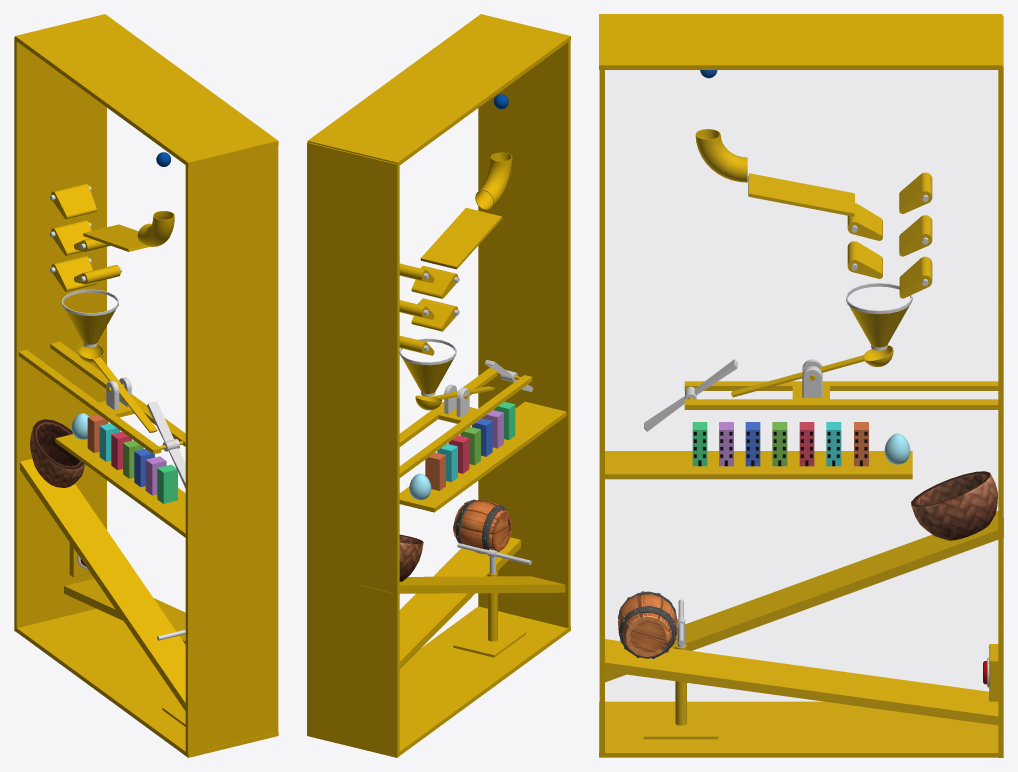
The picture shows the model from 3 angles, left to right: view 1: azimuth 30°, elevation 25°; view 2: azimuth 150°, elevation 25°; view 3: azimuth 270°, elevation 25°; orthographic projection. The views are drawn at different scales.
Parts seen in each view (by area): view 1: Masina_1_ram, Postolje2, Postolje_za_klackalicu, Postolje1, Korpa, Postolje3, Levak, Fliper4, Kasika_od_klackalice, Dascica_1, Fliper3, Elise (+10 smaller); view 2: Masina_1_ram, Postolje3, Postolje1, Postolje_za_klackalicu, Postolje2, Burence, Dascica_1, Stalak, Levak, Tunel, Fliper, Fliper5 (+11 smaller); view 3: Masina_1_ram, Postolje3, Postolje2, Postolje1, Postolje_za_klackalicu, Korpa, Burence, Dascica_1, Stalak, Levak, Tunel, Kasika_od_klackalice (+13 smaller).
Part boxes in pixels (<box>): Masina_1_ram: <box>14,14,278,757</box>; Postolje2: <box>20,458,185,710</box>; Postolje_za_klackalicu: <box>18,341,185,454</box>; Postolje1: <box>55,434,185,537</box>; Korpa: <box>30,419,84,487</box>; Postolje3: <box>64,578,185,644</box>; Levak: <box>62,289,118,347</box>; Fliper4: <box>49,183,96,218</box>; Kasika_od_klackalice: <box>77,342,157,432</box>; Dascica_1: <box>83,224,149,251</box>; Fliper3: <box>50,256,96,291</box>; Elise: <box>147,401,185,488</box>; Masina_1_ram: <box>307,14,570,757</box>; Postolje3: <box>399,537,520,669</box>; Postolje1: <box>399,401,566,512</box>; Postolje_za_klackalicu: <box>399,367,532,477</box>; Postolje2: <box>360,576,565,593</box>; Burence: <box>453,499,512,554</box>; Dascica_1: <box>420,207,502,269</box>; Stalak: <box>453,571,526,657</box>; Levak: <box>399,338,456,396</box>; Tunel: <box>475,152,512,210</box>; Fliper: <box>411,266,459,298</box>; Fliper5: <box>411,298,459,331</box>; Masina_1_ram: <box>599,14,1003,757</box>; Postolje3: <box>605,639,998,725</box>; Postolje2: <box>605,511,1003,682</box>; Postolje1: <box>605,451,912,479</box>; Postolje_za_klackalicu: <box>684,359,998,409</box>; Korpa: <box>911,471,997,540</box>; Burence: <box>618,591,677,658</box>; Dascica_1: <box>748,173,854,216</box>; Stalak: <box>643,644,718,739</box>; Levak: <box>846,283,912,350</box>; Tunel: <box>695,129,747,182</box>; Kasika_od_klackalice: <box>731,345,893,397</box>.
Bounding box in the file's own units: 0.0797 × 0.4906 × 0.2598.
Materials: 17 (10 with a texture image).
